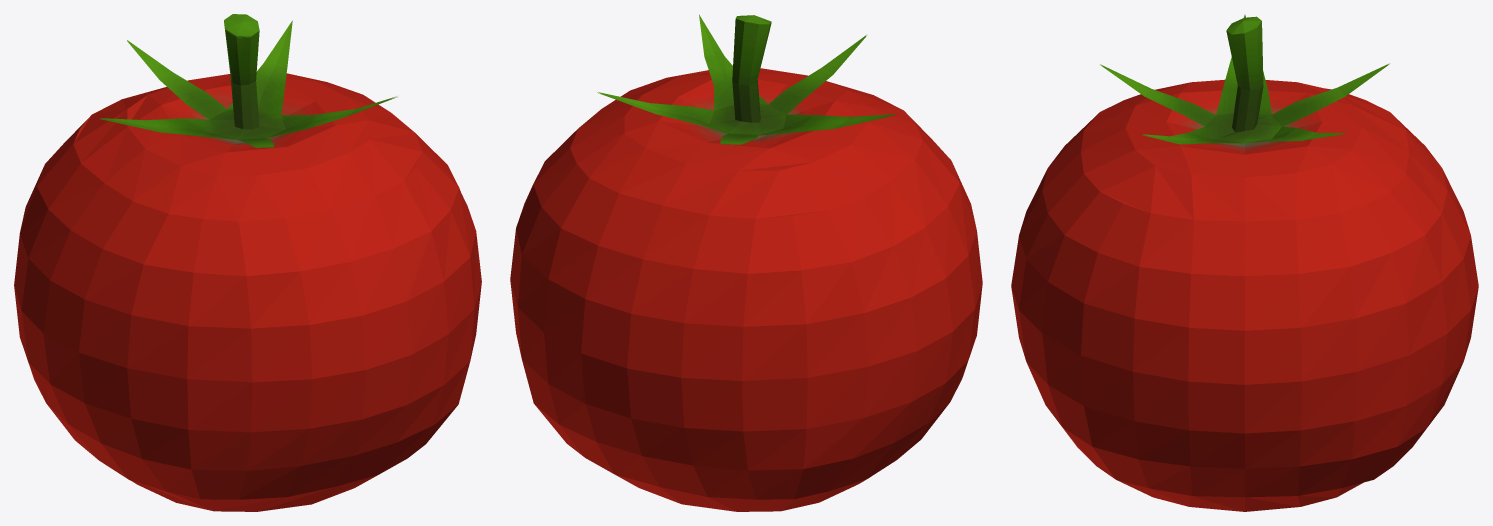
Rendered from Tomato.obj.
3 views of the same model, side by side, from view 1: azimuth 30°, elevation 25°; view 2: azimuth 150°, elevation 25°; view 3: azimuth 270°, elevation 25° (orthographic). The views are drawn at different scales.
Parts seen in each view (by area): view 1: Tomato_Sliced, Tomato_Whole; view 2: Tomato_Sliced, Tomato_Whole; view 3: Tomato_Sliced, Tomato_Whole.
Boxes of the visible parts, x1,y1,x2,y2 form: Tomato_Sliced: (14, 21, 481, 511); Tomato_Whole: (43, 14, 473, 470); Tomato_Sliced: (510, 22, 982, 511); Tomato_Whole: (570, 14, 982, 361); Tomato_Sliced: (1011, 31, 1478, 511); Tomato_Whole: (1028, 14, 1438, 496).
Bounding box in the file's own units: 0.7651 × 0.8289 × 0.7651.
Materials: 1 (1 with a texture image).
